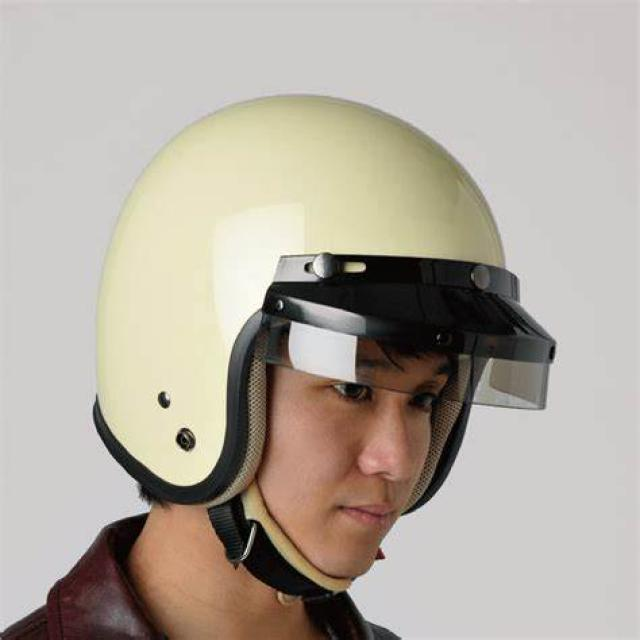helmet: (85, 80, 563, 601)
